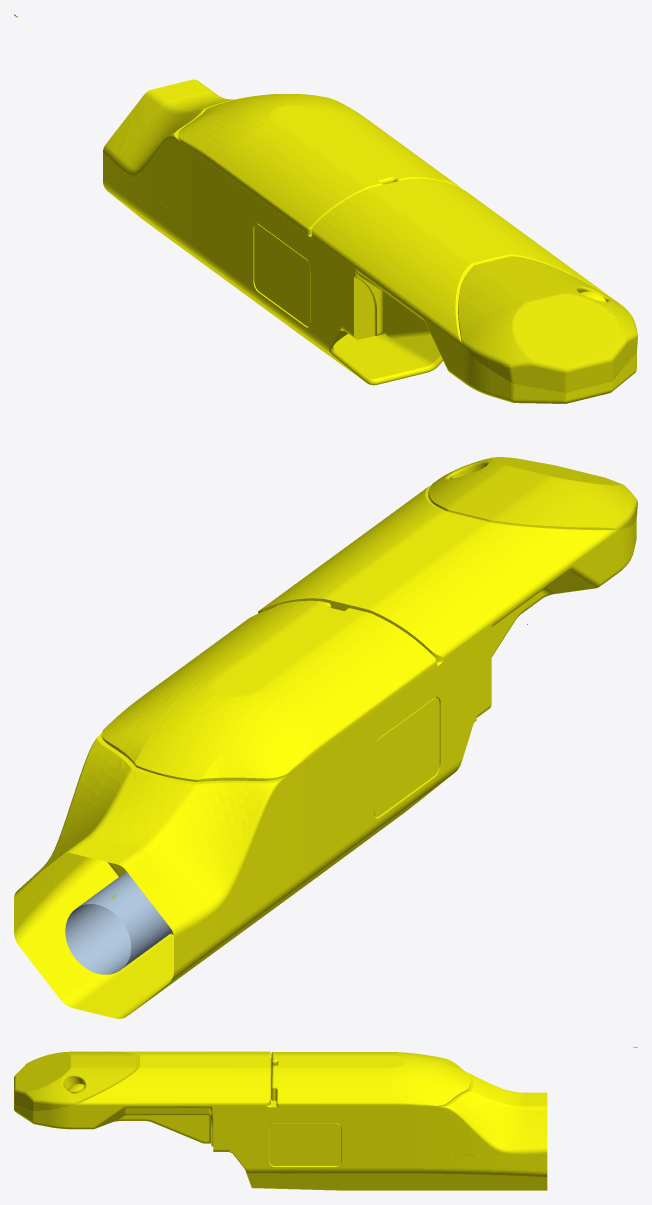
The picture shows the model from 3 angles, top to bottom: view 1: azimuth 30°, elevation 25°; view 2: azimuth 150°, elevation 25°; view 3: azimuth 270°, elevation 25°; orthographic projection. The views are drawn at different scales.
Parts seen in each view (by area): view 1: node; view 2: node; view 3: node.
Part boxes in pixels (bbox=[...]): node: bbox=[14, 14, 637, 428]; node: bbox=[14, 457, 637, 1018]; node: bbox=[14, 1047, 637, 1190].
Size of the model in its own units: 157 by 174 by 802.
